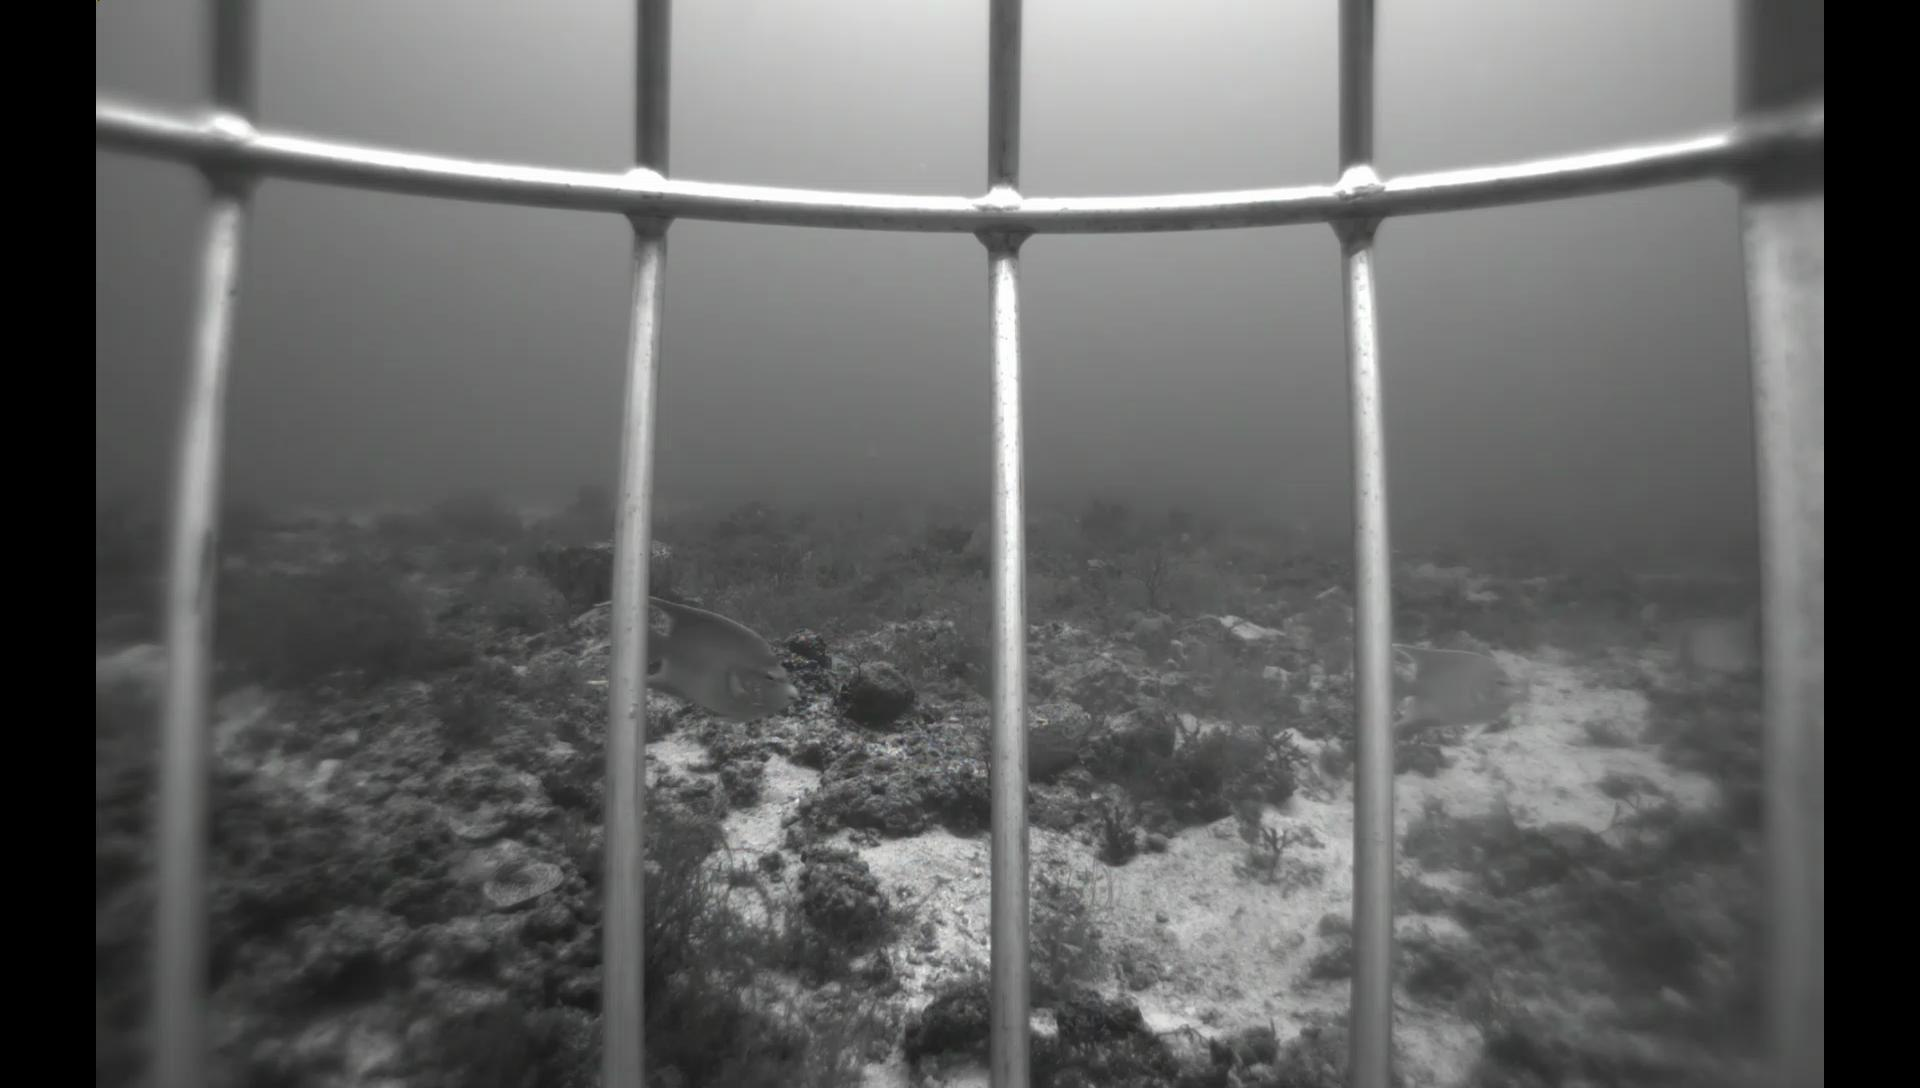CHAETODONOCELLATUS-170260307: (1644, 611, 1755, 680), (1735, 612, 1760, 677)
HOLACANTHUSBERMUDENSIS-170290102: (571, 586, 804, 728), (1385, 626, 1534, 748)
MYCTEROPERCAPHENAX-170022105: (945, 520, 992, 562)
